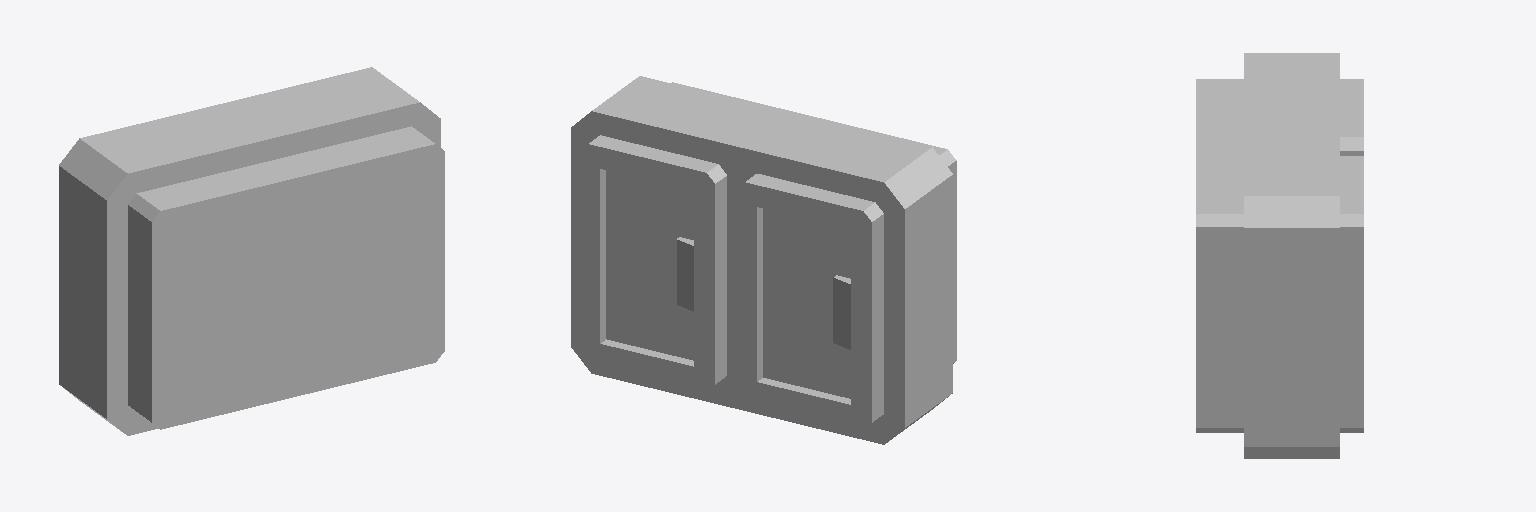
The model's file is freezer.obj.
The picture shows the model from 3 angles: view 1: azimuth 30°, elevation 25°; view 2: azimuth 150°, elevation 25°; view 3: azimuth 270°, elevation 25°; orthographic projection.
Visible parts, largest first — view 1: freezer.009; view 2: freezer.009; view 3: freezer.009.
Part boxes in pixels (x1,y1,x2,y2): freezer.009: (59,67,444,435); freezer.009: (571,76,956,444); freezer.009: (1196,53,1363,458).
Size of the model in its own units: 0.8 by 0.6 by 0.35.